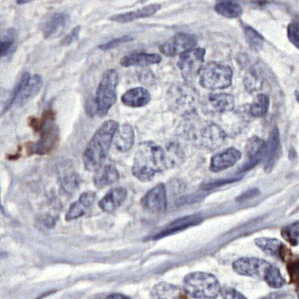Lymphocyte: (28, 110, 59, 152)
